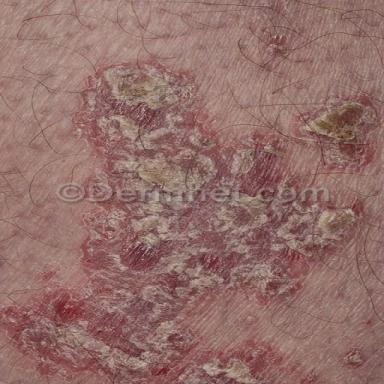Psoriasis: (0, 193, 366, 384), (74, 62, 286, 193), (291, 95, 379, 172), (342, 348, 364, 367)
